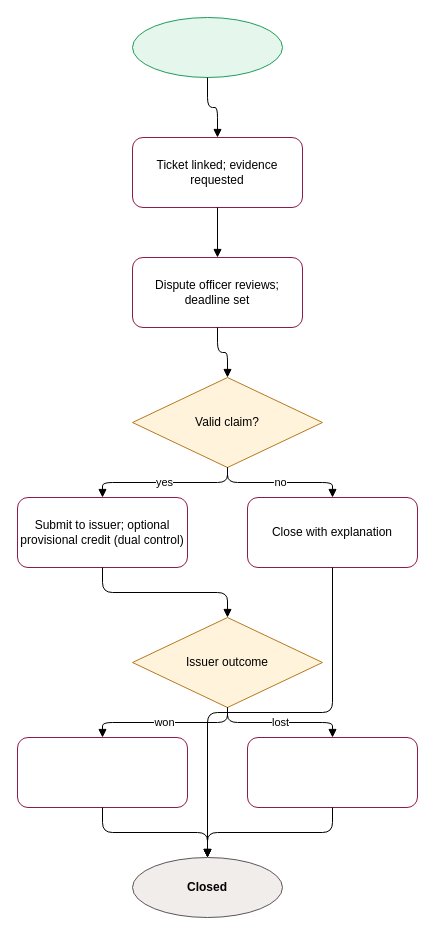
Image size: 435x935. Some labels were removed from this diagram. The shapes that lost their labels are listed below. From the top down, each one's box as (x1, y1, x2, y2) in pixels, then its label:
(132, 16, 282, 78): Customer reports card transaction problem
(16, 736, 188, 808): Won: finalise credit
(246, 736, 418, 808): Lost: reverse provisional credit; inform customer
